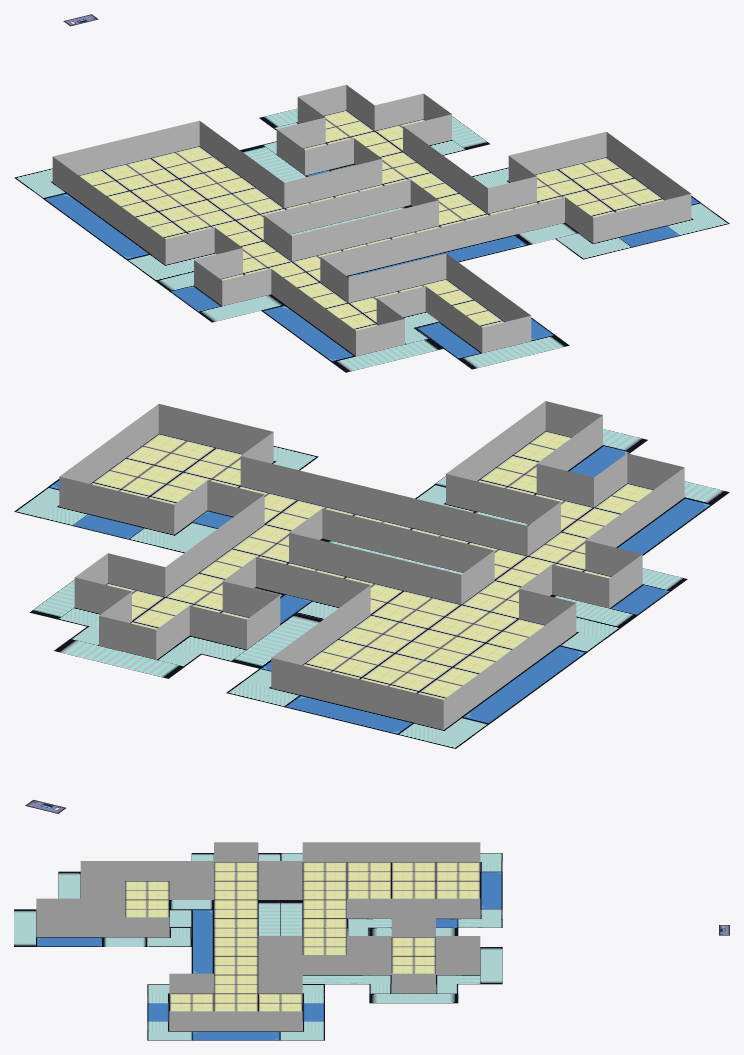
Rendered from map2.fbx.
The picture shows the model from 3 angles, top to bottom: view 1: azimuth 30°, elevation 25°; view 2: azimuth 150°, elevation 25°; view 3: azimuth 270°, elevation 25°; orthographic projection. The views are drawn at different scales.
Parts seen in each view (by area): view 1: Plane.042, Plane, Plane.003, Plane.034, Plane.032, Plane.033, Plane.022, Plane.002, Plane.035, Plane.019, Plane.030, Plane.013 (+7 smaller); view 2: Plane.042, Plane, Plane.003, Plane.034, Plane.004, Plane.011, Plane.013, Plane.008, Plane.018, Plane.015, Plane.017, Plane.001 (+8 smaller); view 3: Plane.042, Plane, Plane.022, Plane.010, Plane.012, Plane.039, Plane.011, Plane.004, Plane.032, Plane.023, Plane.024, Plane.017 (+16 smaller).
Boxes of the visible parts, x1=… form: Plane.042: x1=52, y1=85, x2=691, y2=356; Plane: x1=79, y1=110, x2=664, y2=330; Plane.003: x1=42, y1=192, x2=151, y2=260; Plane.034: x1=261, y1=304, x2=355, y2=362; Plane.032: x1=458, y1=335, x2=569, y2=369; Plane.033: x1=332, y1=338, x2=443, y2=372; Plane.022: x1=347, y1=234, x2=529, y2=277; Plane.002: x1=127, y1=253, x2=216, y2=280; Plane.035: x1=198, y1=294, x2=284, y2=322; Plane.019: x1=555, y1=233, x2=631, y2=259; Plane.030: x1=415, y1=322, x2=481, y2=358; Plane.013: x1=240, y1=144, x2=306, y2=182; Plane.042: x1=59, y1=401, x2=684, y2=729; Plane: x1=90, y1=431, x2=653, y2=699; Plane.003: x1=460, y1=645, x2=587, y2=724; Plane.034: x1=616, y1=497, x2=712, y2=555; Plane.004: x1=54, y1=639, x2=184, y2=678; Plane.011: x1=284, y1=695, x2=414, y2=734; Plane.013: x1=231, y1=613, x2=322, y2=668; Plane.008: x1=156, y1=635, x2=246, y2=666; Plane.018: x1=399, y1=718, x2=488, y2=748; Plane.015: x1=129, y1=522, x2=216, y2=552; Plane.017: x1=14, y1=487, x2=87, y2=525; Plane.001: x1=226, y1=668, x2=299, y2=706; Plane.042: x1=36, y1=842, x2=480, y2=1031; Plane: x1=125, y1=862, x2=480, y2=1011; Plane.022: x1=191, y1=909, x2=213, y2=973; Plane.010: x1=302, y1=975, x2=391, y2=993; Plane.012: x1=369, y1=993, x2=458, y2=1003; Plane.039: x1=191, y1=1031, x2=280, y2=1040; Plane.011: x1=480, y1=871, x2=502, y2=909; Plane.004: x1=480, y1=947, x2=502, y2=984; Plane.032: x1=14, y1=909, x2=36, y2=946; Plane.023: x1=280, y1=900, x2=302, y2=935; Plane.024: x1=258, y1=900, x2=280, y2=935; Plane.017: x1=280, y1=1021, x2=324, y2=1040.
Size of the model in its own units: 4000 by 200 by 6447.
